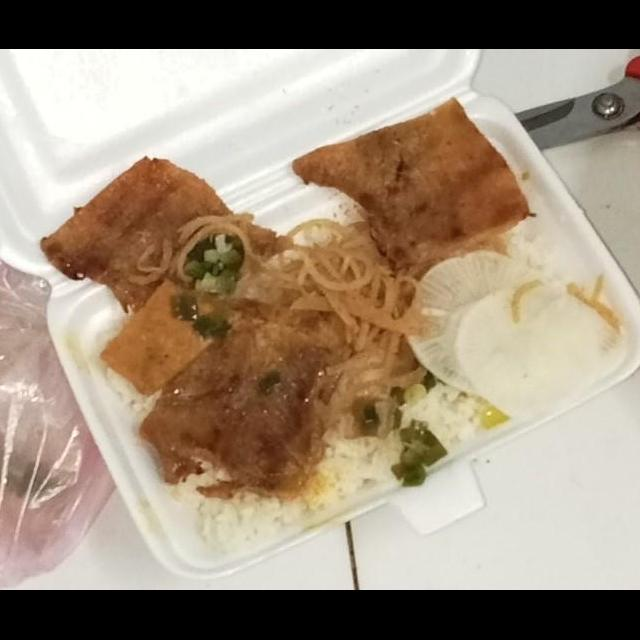bi: (229, 215, 433, 432), (124, 212, 264, 300)
com: (311, 374, 499, 514), (167, 454, 333, 558)
dua chua: (397, 246, 631, 427)
suon: (287, 94, 534, 280), (35, 152, 297, 320), (136, 310, 350, 506), (95, 274, 240, 402)
